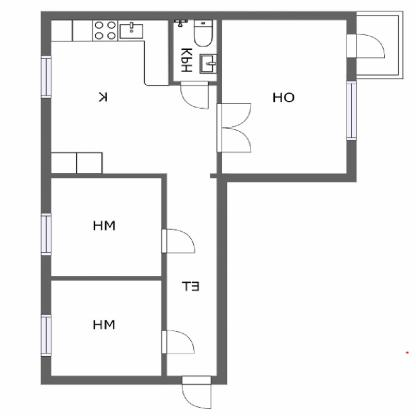door: (212, 102, 255, 155), (181, 376, 214, 411), (346, 34, 387, 61), (160, 229, 198, 257), (181, 80, 210, 112), (162, 330, 197, 356)
window: (348, 83, 358, 142), (39, 315, 52, 357), (40, 56, 52, 98), (40, 212, 51, 256)
zone: (51, 20, 216, 376), (220, 18, 347, 174), (52, 177, 162, 278), (53, 281, 161, 376), (357, 16, 397, 74)
